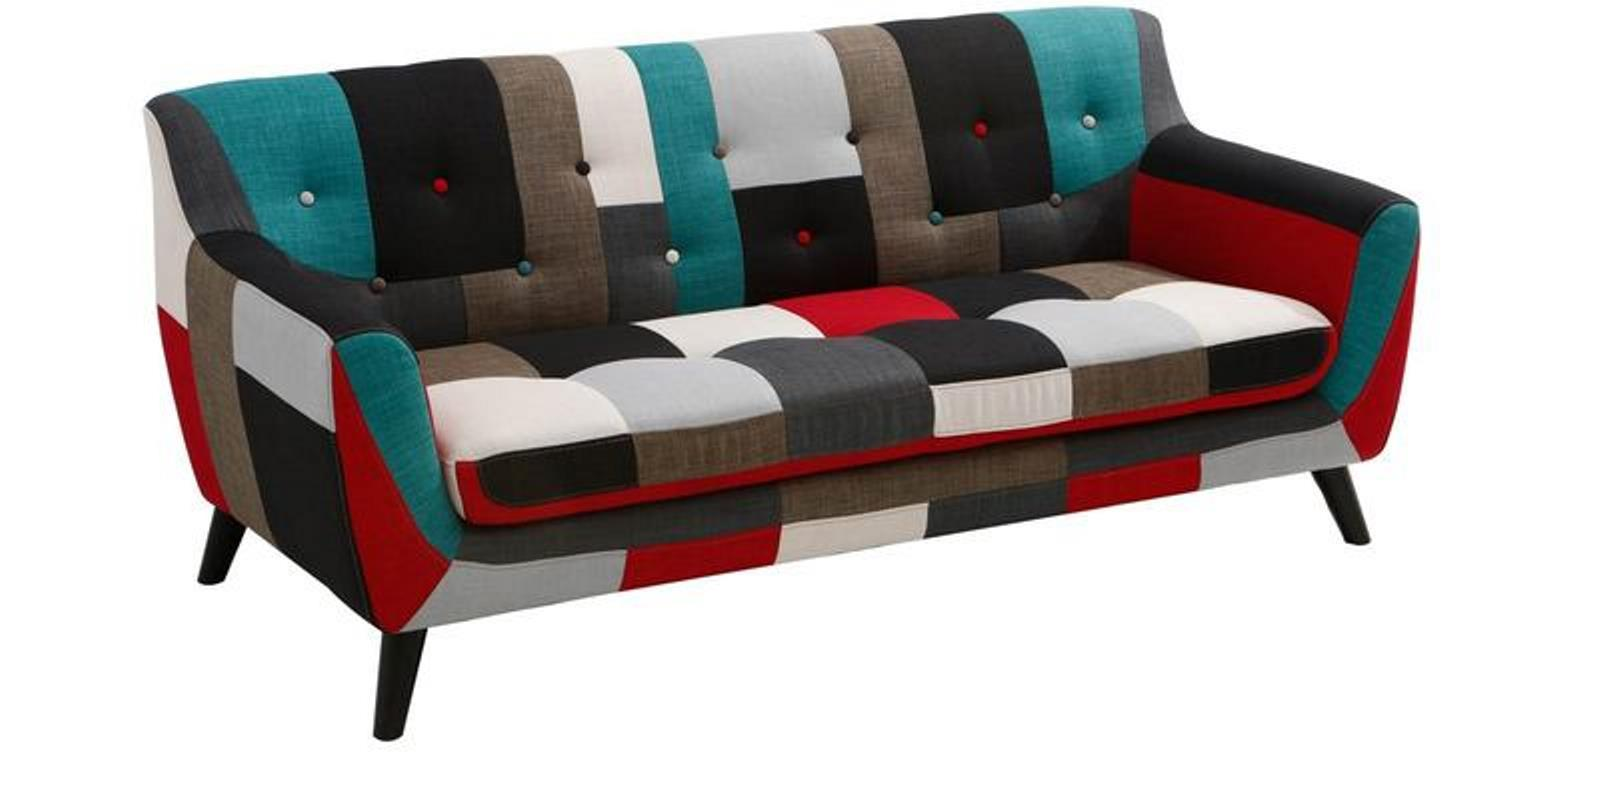Frida Three Seater Sofa in Red Multi Colour by CasaCraft: (92, 3, 1421, 763)
